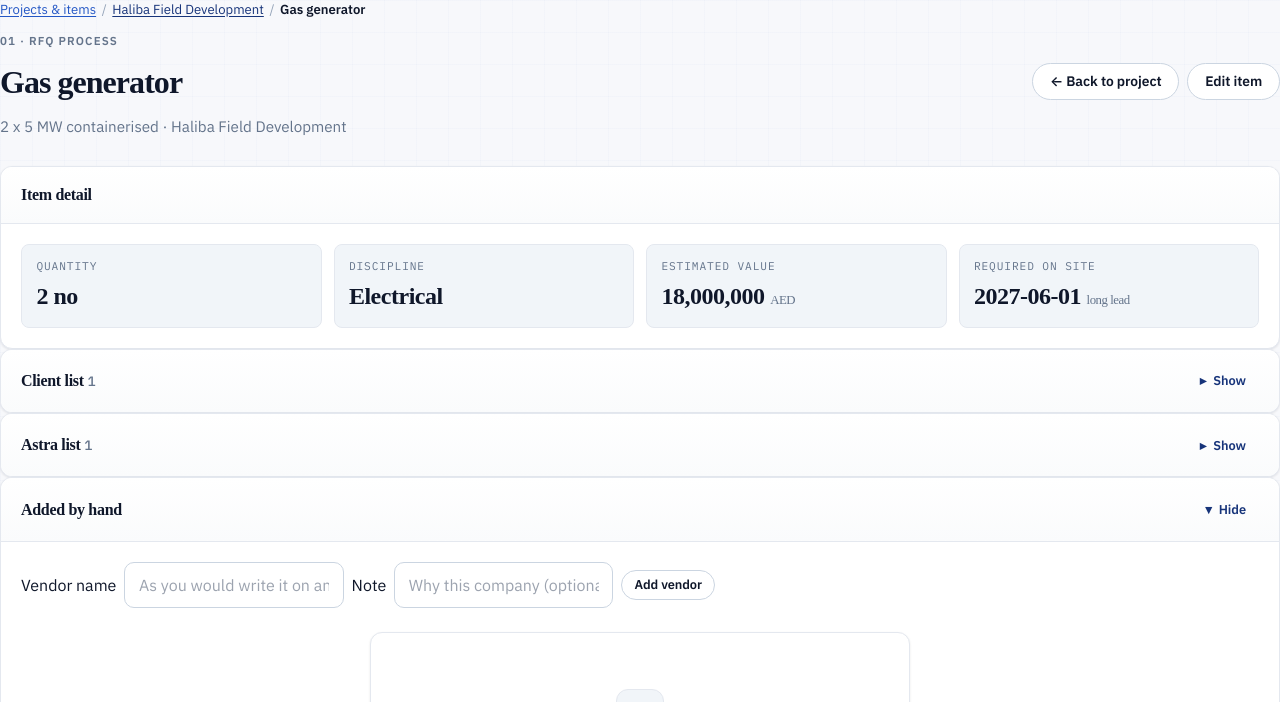
Test case: ItemDetail › the uploaded cards › carry no add or remove control
The width and height of the screenshot is (1280, 702).
Click the button "▸ Show" in the row of "Client list" at (1223,381), box x1=1187 y1=366 x2=1259 y2=396
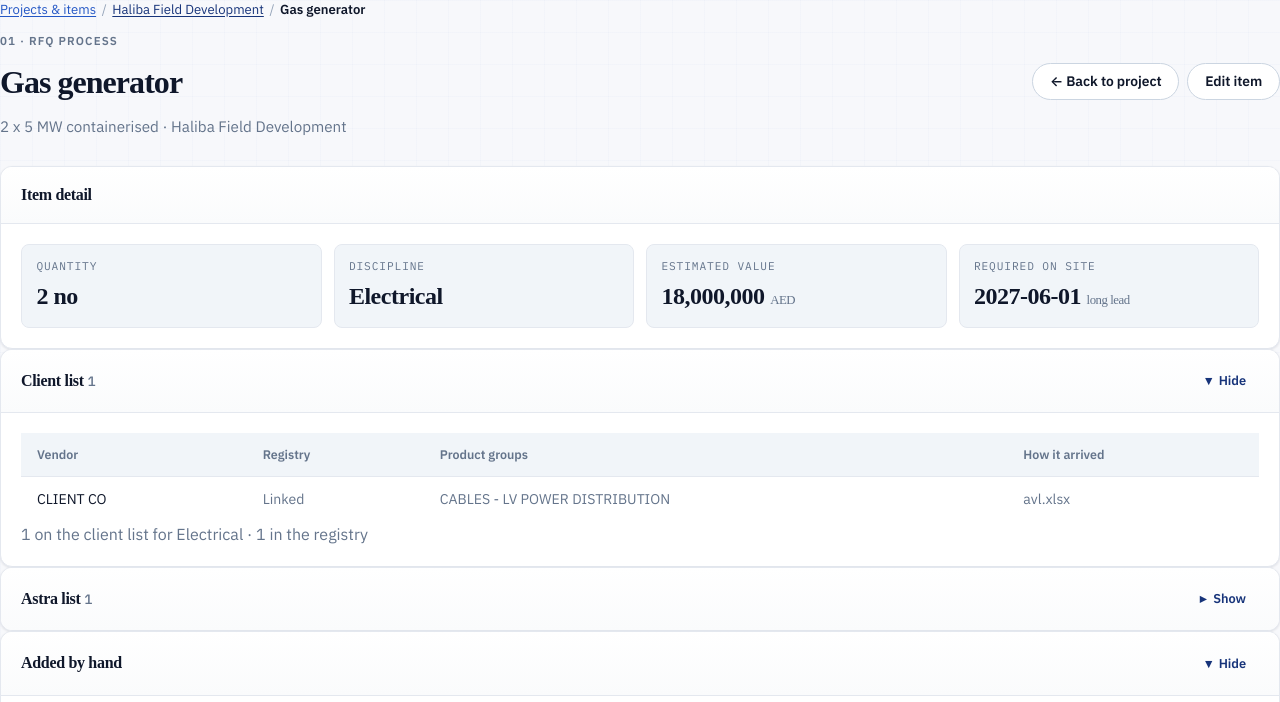
Result: the table is shown at x1=21 y1=433 x2=1259 y2=522
Result: the button "Add vendor" is gone
Click the button "▸ Show" at (1223,599), box x1=1187 y1=584 x2=1259 y2=614
(page scrolled)
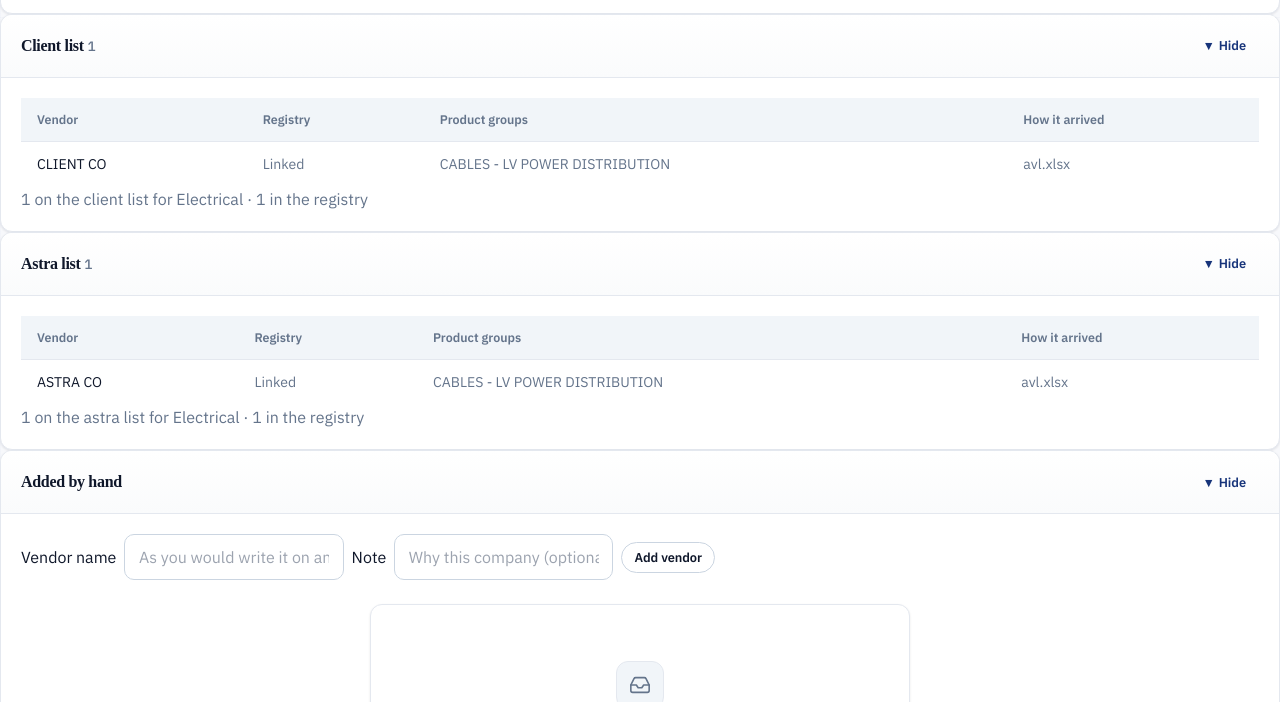
Result: the table that starts with "Vendor" is shown at x1=21 y1=316 x2=1259 y2=405
